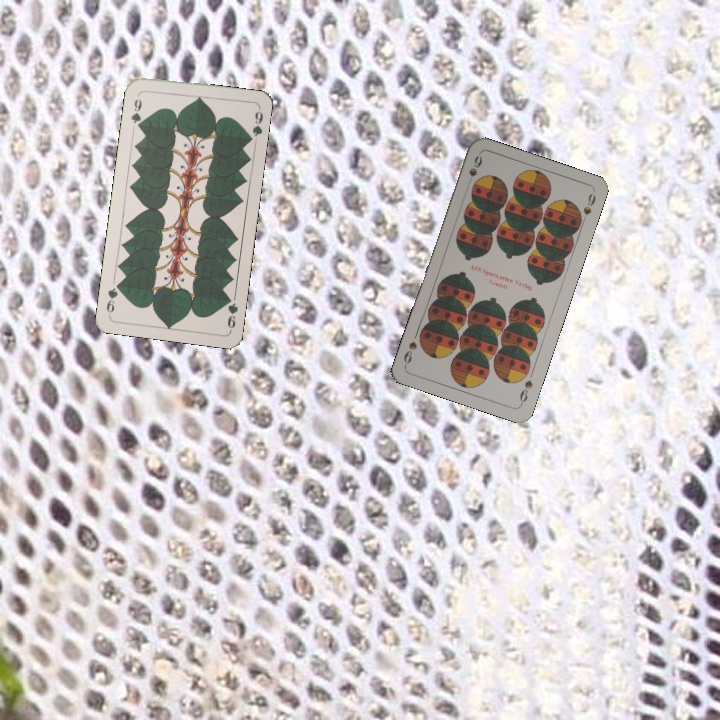G9: (222, 291, 241, 333), (127, 90, 144, 131)
S9: (463, 152, 485, 190), (515, 376, 535, 408)
